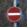No entry: (5, 5, 22, 22)
